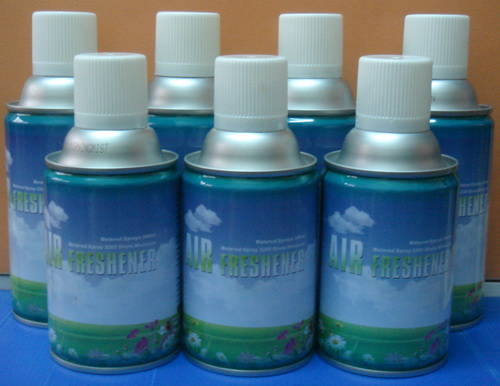Aerosol_cans: (177, 52, 322, 379), (318, 54, 461, 380), (42, 50, 184, 377)
